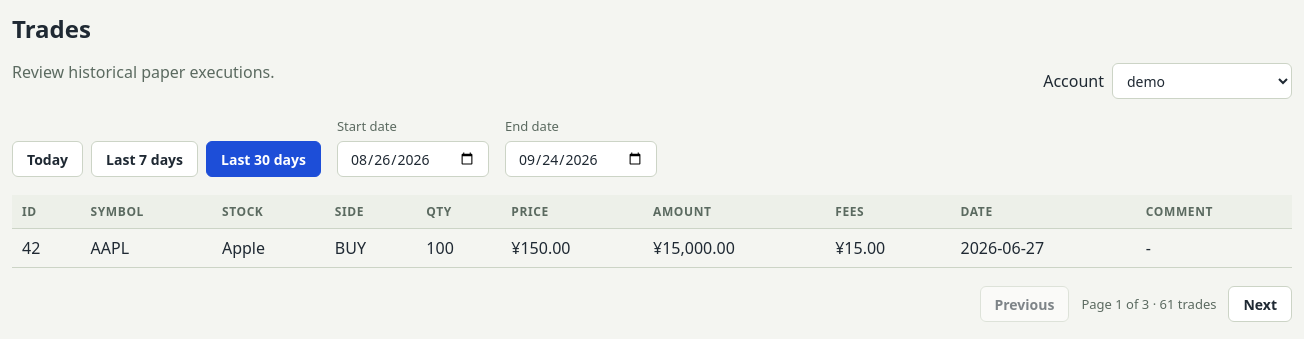
Scenario: TradesPage › paginates with Next and Previous while syncing the URL
The width and height of the screenshot is (1304, 339).
Expected: the text "Page 1 of 3 · 61 trades" is shown, [1081,295,1216,313]
Expected: the button "Previous" is disabled, [980,286,1069,322]
Click the button "Next". click: (1260, 304)
box: [1228,286,1292,322]
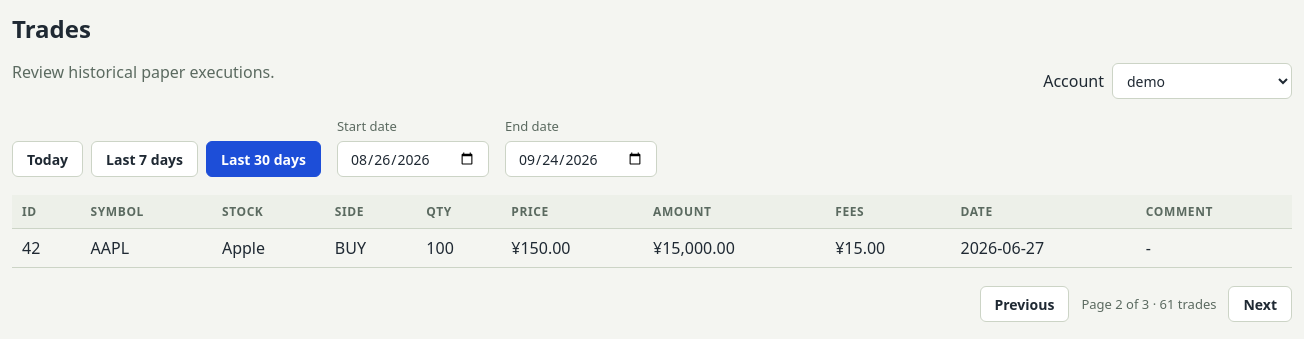
Now the text "Page 2 of 3 · 61 trades" is shown, box [1081,295,1216,313]
Click the button "Previous". click: (1024, 304)
box: [980,286,1069,322]
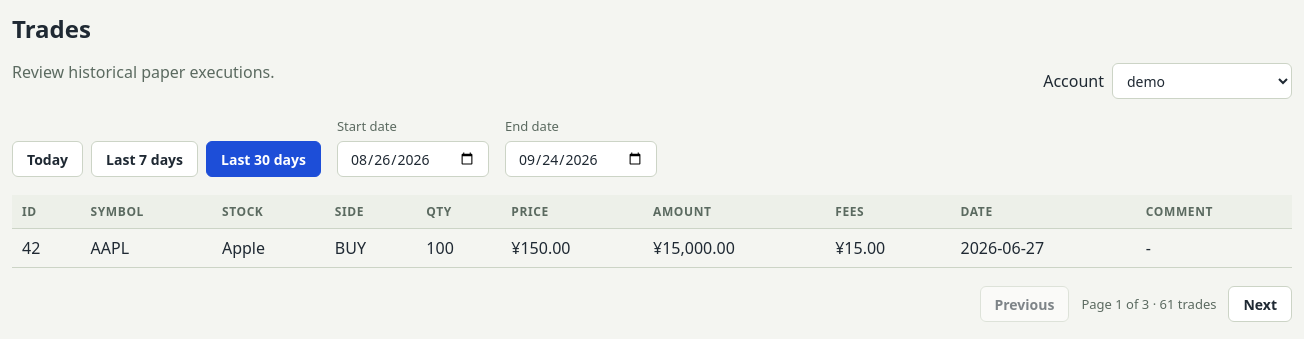
Now the text "Page 1 of 3 · 61 trades" is shown, box [1081,295,1216,313]
